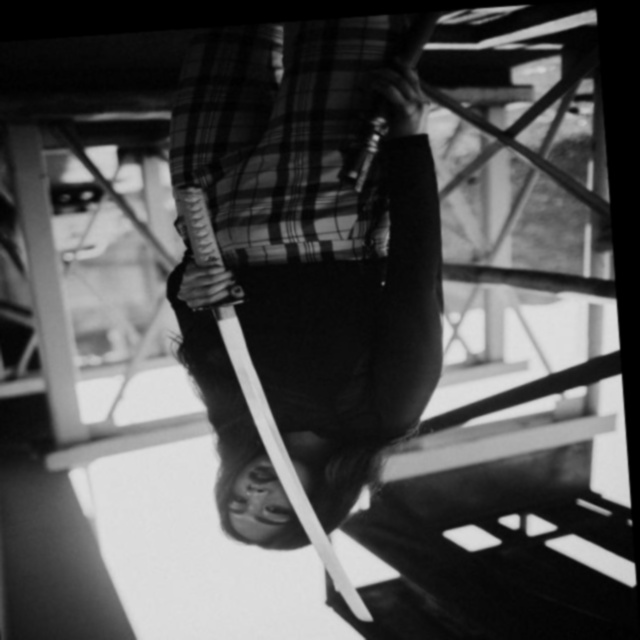Sharp-Object: (169, 183, 381, 640)
